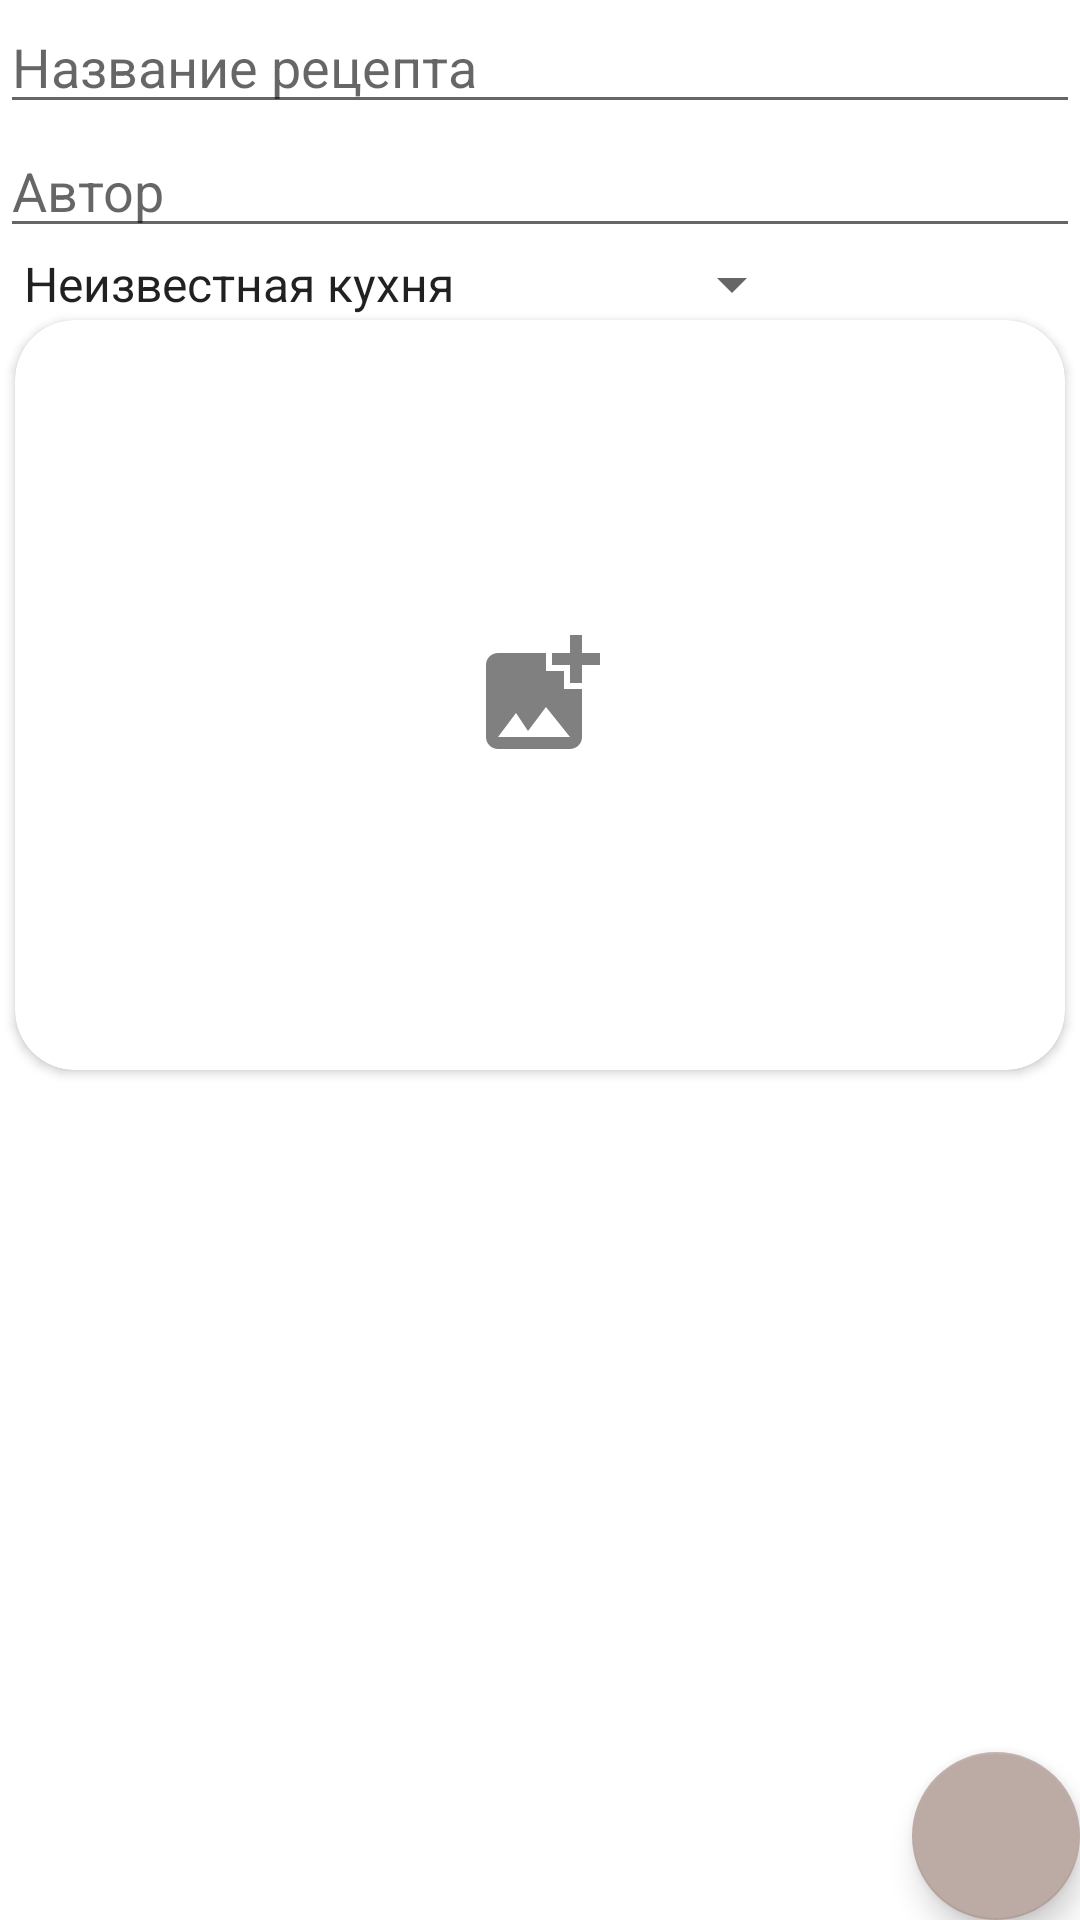

Where to tap for icons on this 1080x1920 app screen, as (x=x, y=y):
add: (x=543, y=692)
